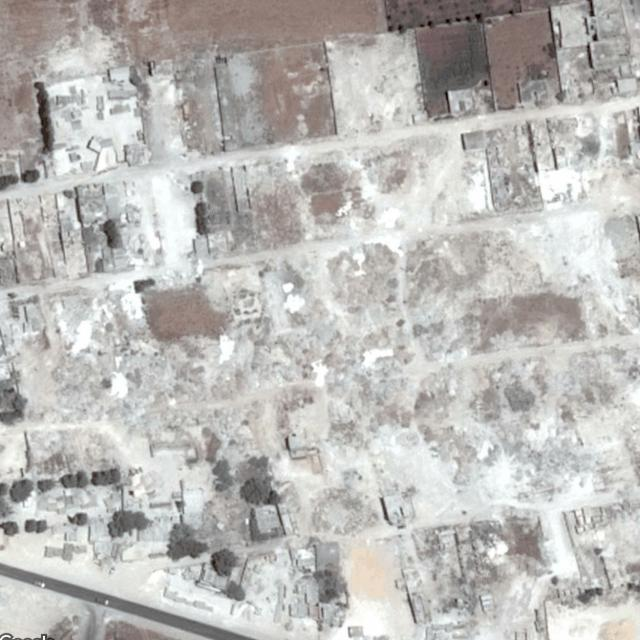damaged_building: (0, 97, 640, 640)
